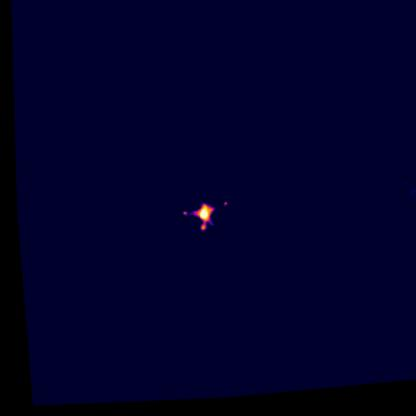drone: (175, 190, 224, 236)
